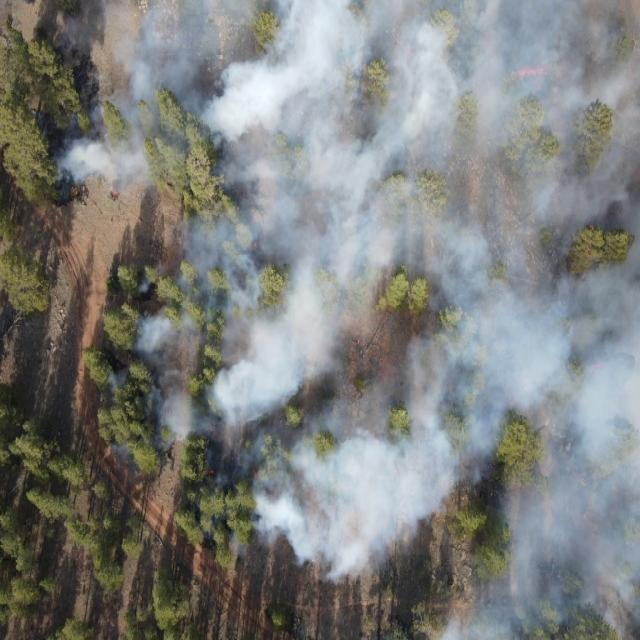fire: (517, 63, 551, 81), (201, 466, 218, 476), (251, 469, 263, 480), (70, 187, 81, 197), (112, 189, 120, 199), (252, 240, 260, 248)
smoke: (182, 208, 640, 582), (42, 1, 640, 208), (433, 580, 640, 640), (132, 268, 182, 468), (94, 358, 133, 393), (100, 436, 134, 470)
